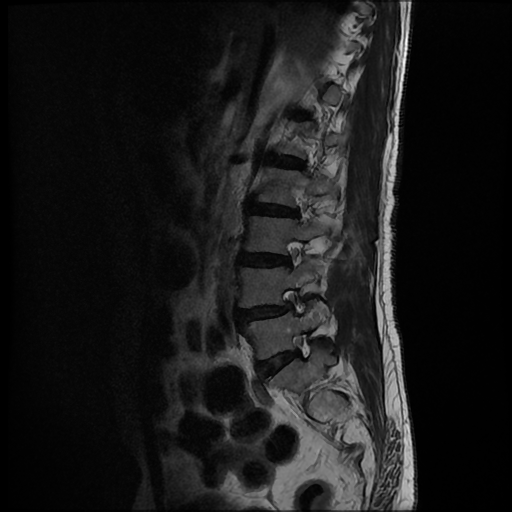RFS0: (275, 230, 311, 275), (285, 322, 319, 368)
RFS1: (272, 277, 311, 321)
